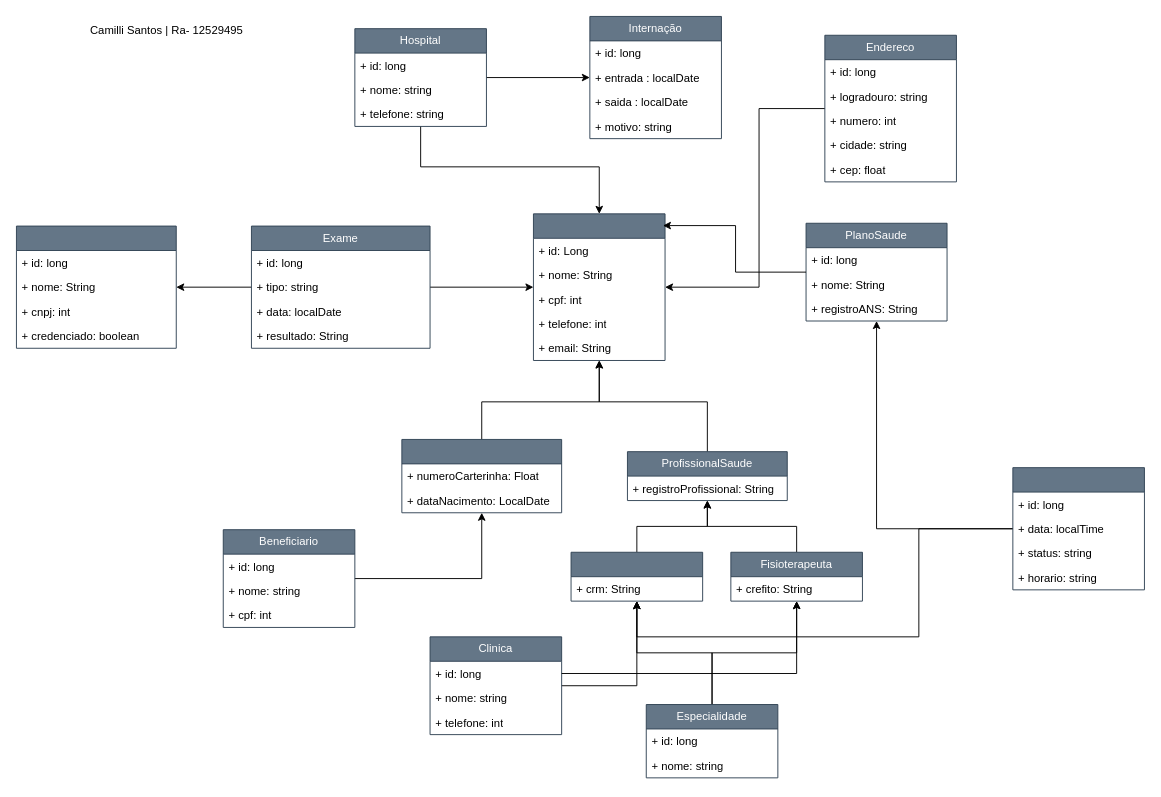
Some shapes in this 1161 by 797 pixel diagram are drawn without their labels. Here are the shapes that lost their labels. From the top down, the box of each, then its label:
(16, 225, 176, 348): Laboratorio
(533, 213, 665, 360): Pessoa
(401, 439, 562, 513): Paciente
(1012, 467, 1144, 590): Consulta
(570, 551, 703, 601): Medico
